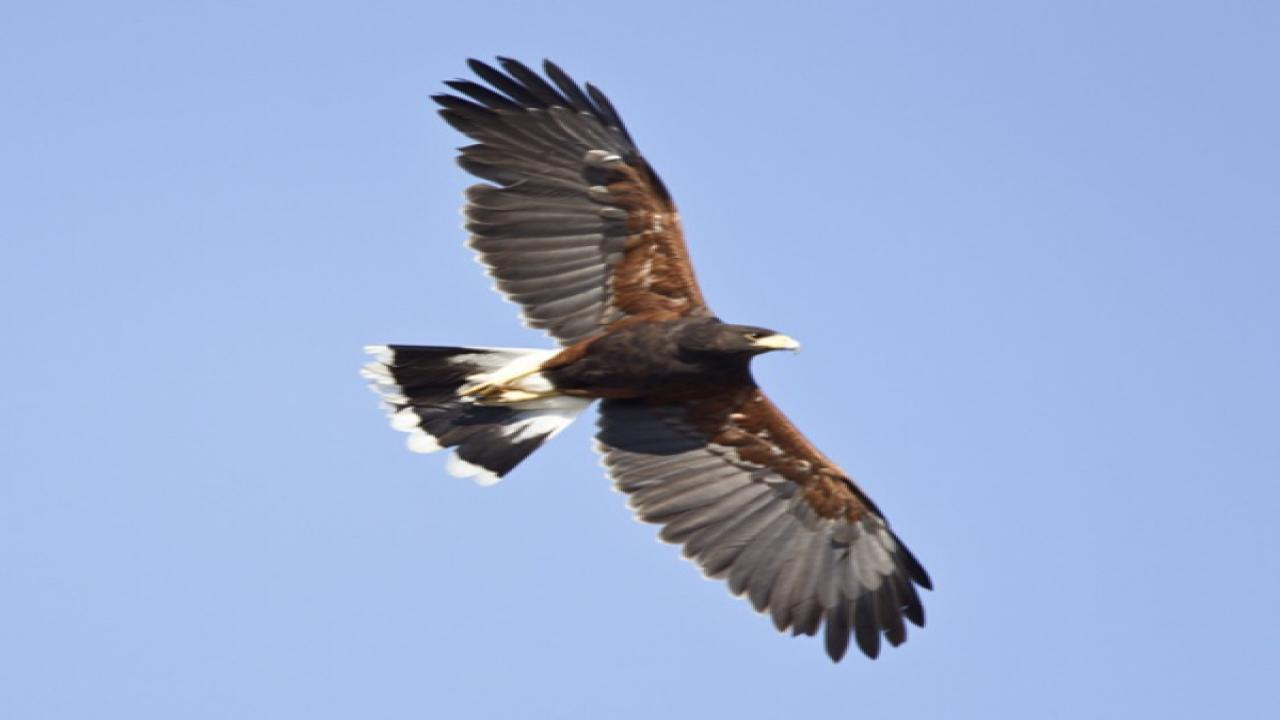Bird: (346, 46, 954, 674)
